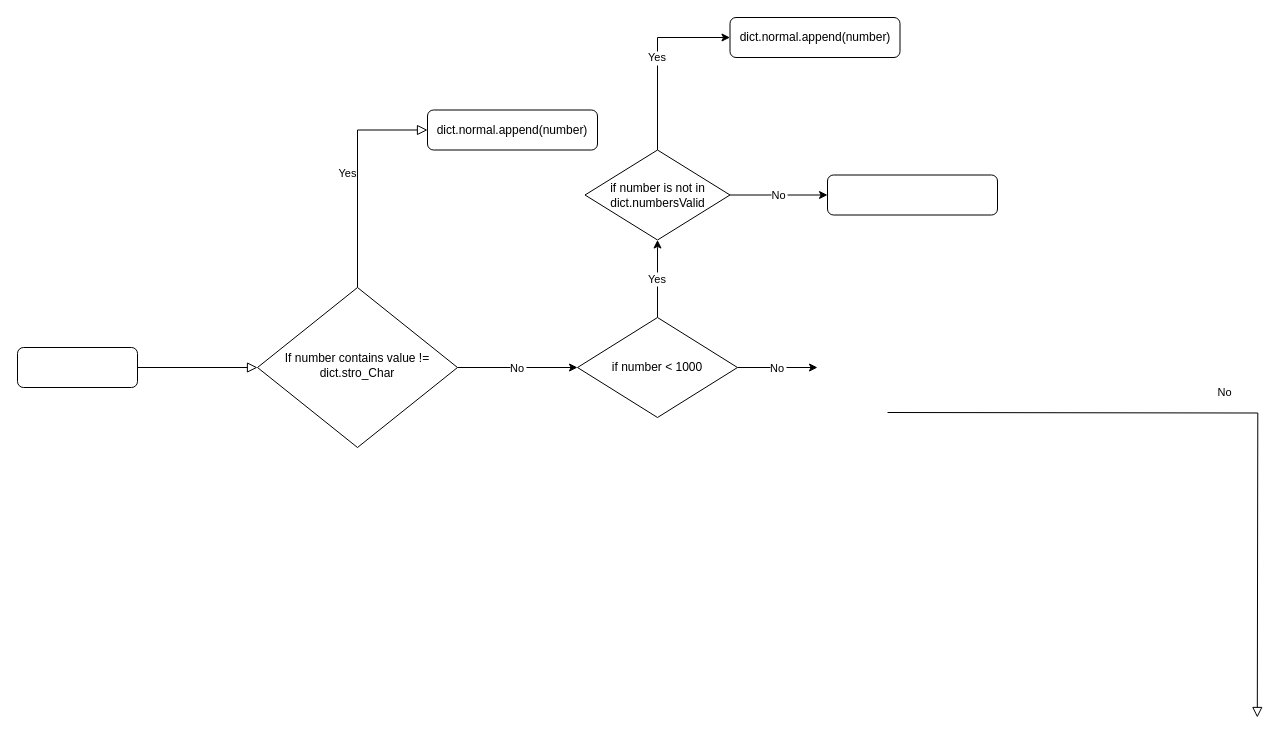
Image size: 1286x745. Some labels were removed from this diagram. The centre of each missing label's shape, as x and y in pixels:
"dict.strogmatic.append(number)" goes at (912,194).
"Number" goes at (77,367).
